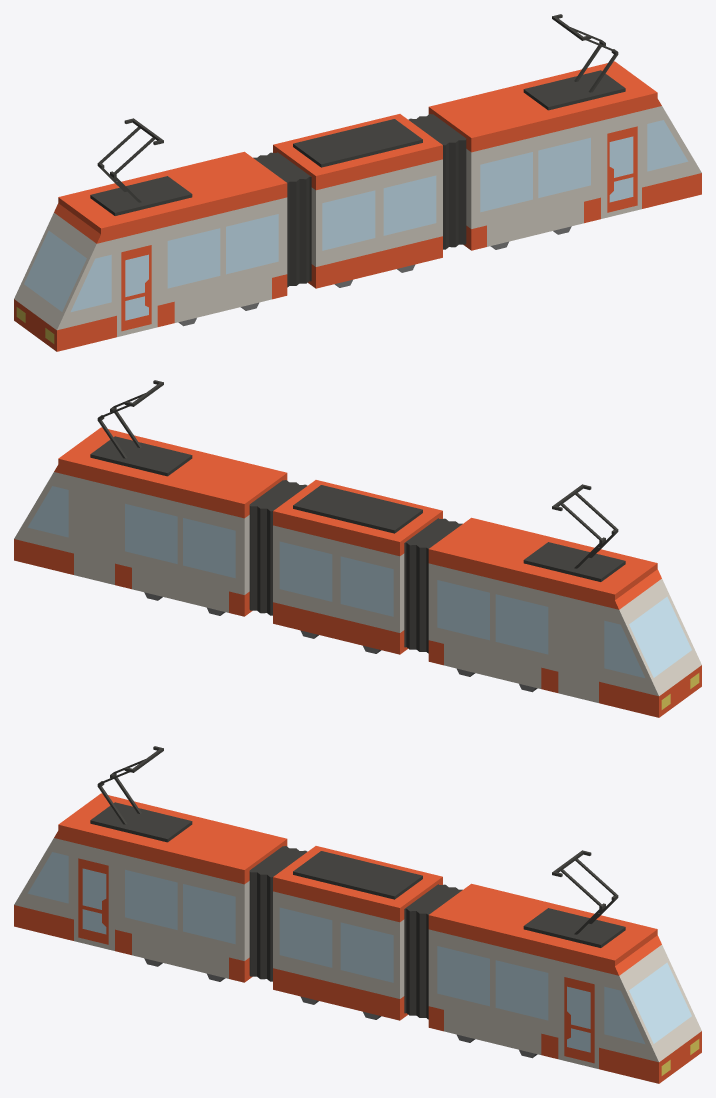
Rendered from Tram_3.fbx.
3 views of the same model, one above another, from view 1: azimuth 30°, elevation 25°; view 2: azimuth 150°, elevation 25°; view 3: azimuth 330°, elevation 25° (orthographic).
Parts seen in each view (by area): view 1: Tram_3; view 2: Tram_3; view 3: Tram_3.
Boxes of the visible parts, <box> form: Tram_3: <box>14,14,701,351</box>; Tram_3: <box>14,380,701,717</box>; Tram_3: <box>14,746,701,1083</box>.
Bounding box in the file's own units: 25.35 × 7.04 × 2.92.
Materials: 1 (1 with a texture image).
